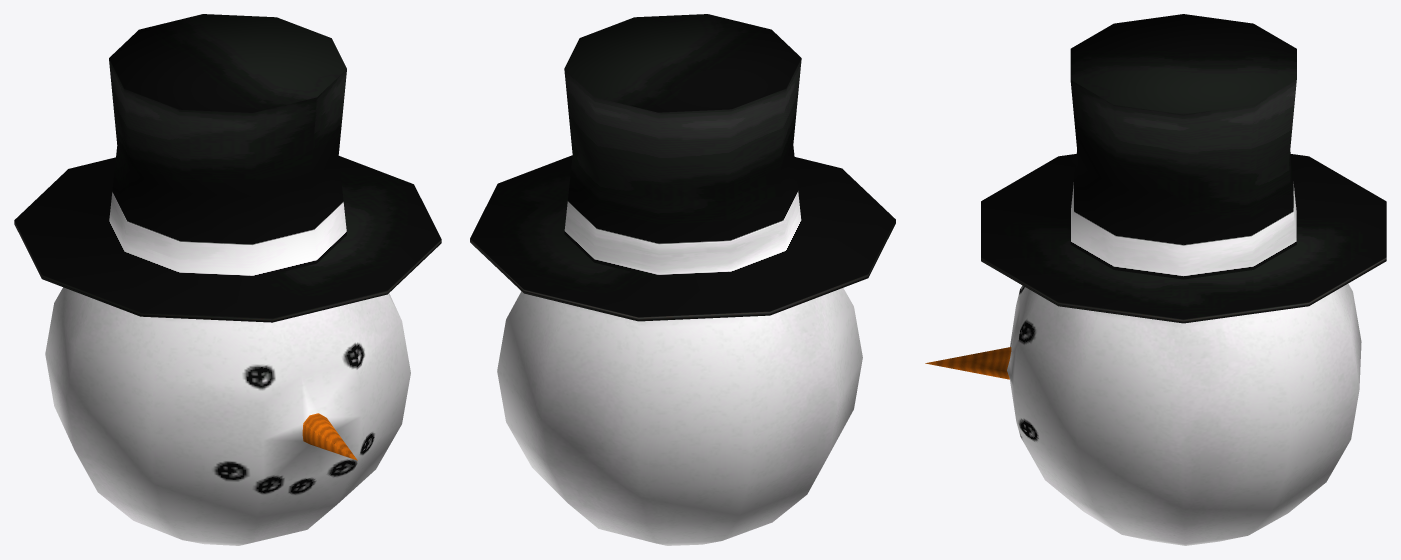
The model's file is hat2.glb.
3 renders of one model, left to right at view 1: azimuth 30°, elevation 25°; view 2: azimuth 150°, elevation 25°; view 3: azimuth 270°, elevation 25°, orthographic.
Parts seen in each view (by area): view 1: polySurface7; view 2: polySurface7; view 3: polySurface7.
Boxes of the visible parts, x1=… form: polySurface7: x1=14, y1=14, x2=441, y2=545; polySurface7: x1=470, y1=14, x2=895, y2=545; polySurface7: x1=925, y1=14, x2=1386, y2=545.
Bounding box in the file's own units: 22.13 × 26.63 × 23.97.
Materials: 1 (1 with a texture image).
